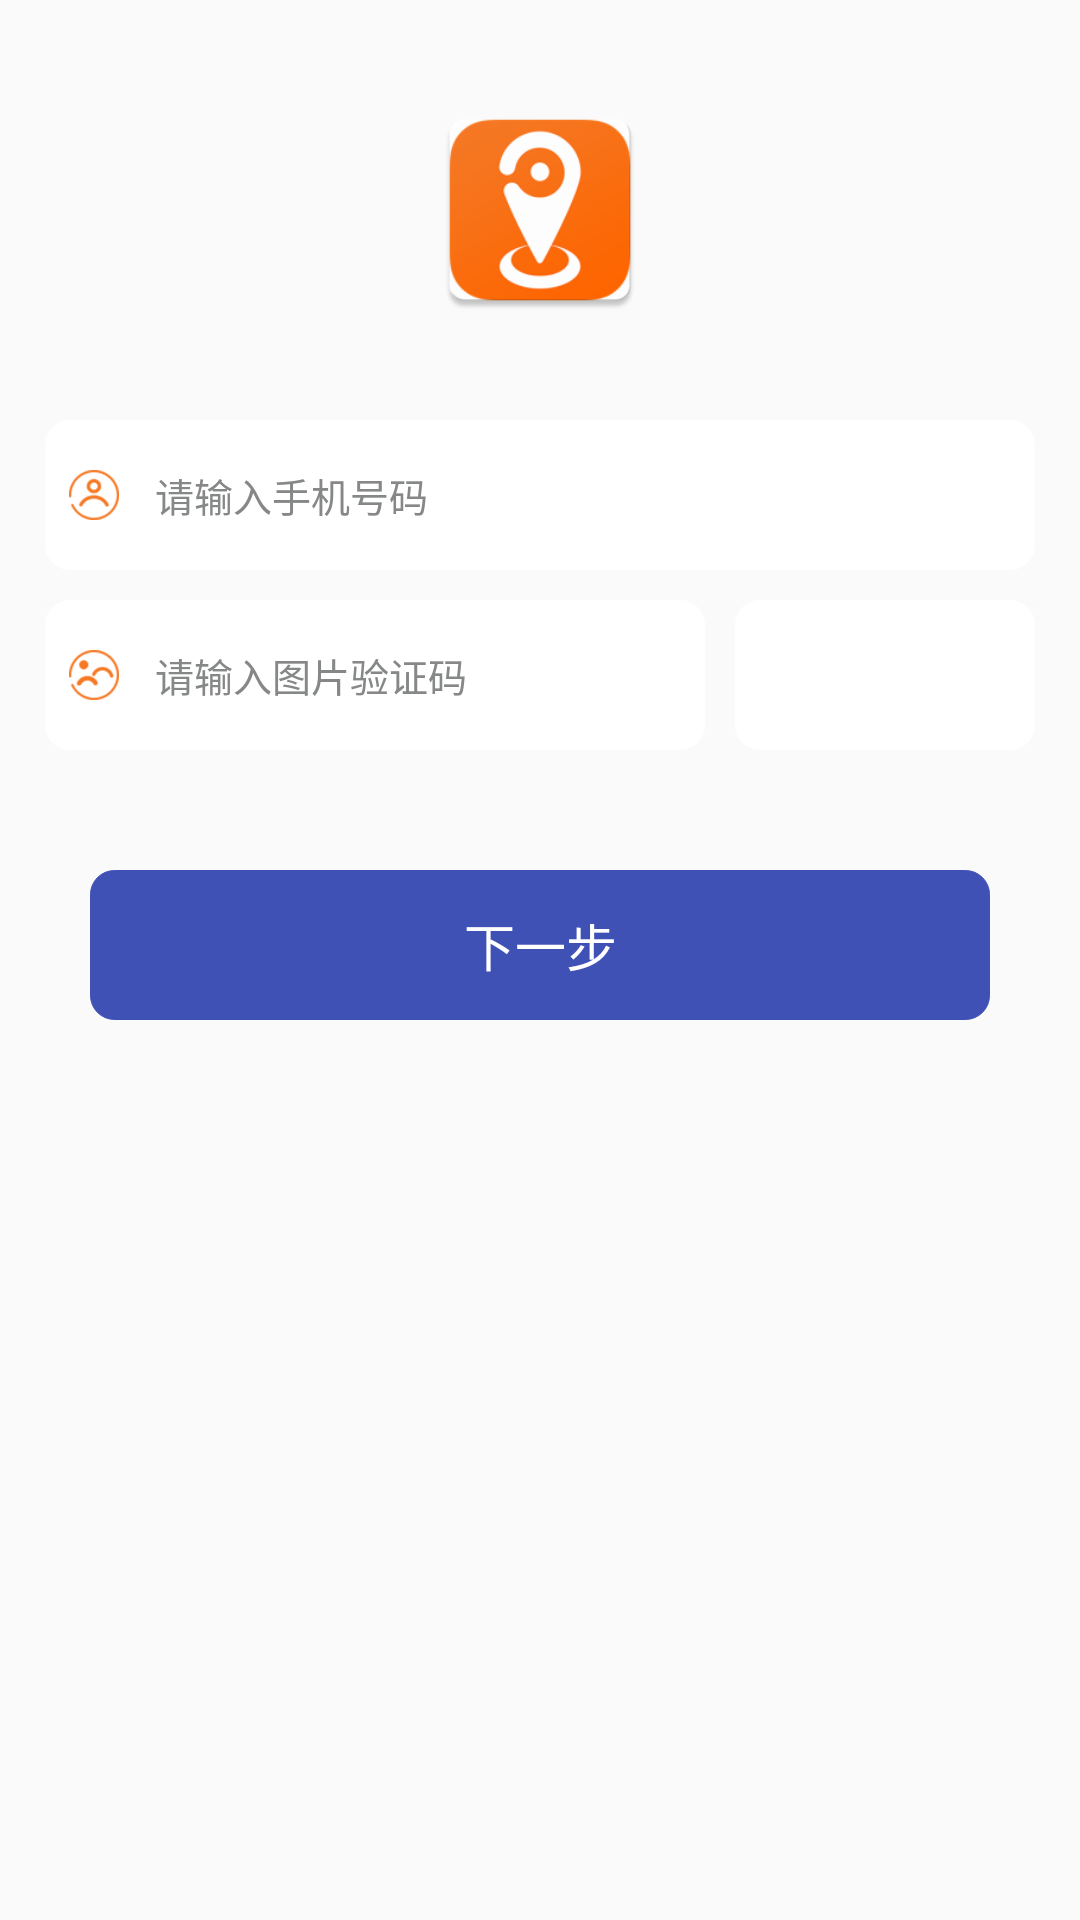

Icon click points for this 1080px x 1920px phone screenshot, format point (x, y):
user leftdraw: point (94, 495)
